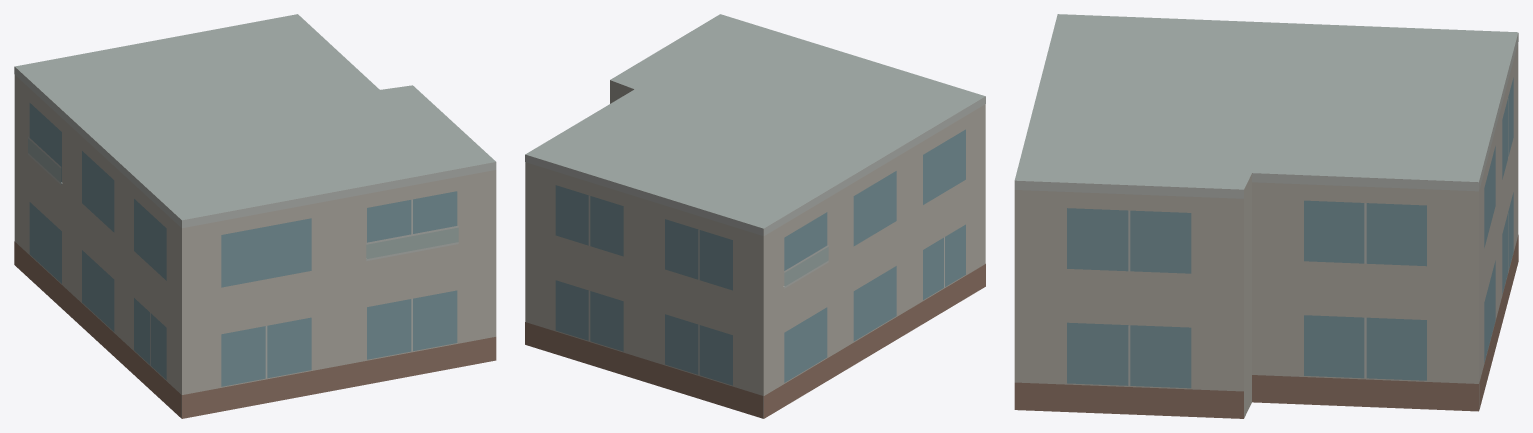
The model's file is survey-upis-32964932.glb.
3 renders of one model, left to right at view 1: azimuth 30°, elevation 25°; view 2: azimuth 150°, elevation 25°; view 3: azimuth 270°, elevation 25°, orthographic. The views are drawn at different scales.
Visible parts, largest first — view 1: survey-upis-32964932.tmp; view 2: survey-upis-32964932.tmp; view 3: survey-upis-32964932.tmp.
Boxes of the visible parts, box(x1,y1,x2,y2) form: survey-upis-32964932.tmp: box(14, 14, 496, 418); survey-upis-32964932.tmp: box(525, 14, 985, 418); survey-upis-32964932.tmp: box(1014, 14, 1518, 418).
Size of the model in its own units: 10.03 by 6.1 by 12.16.
